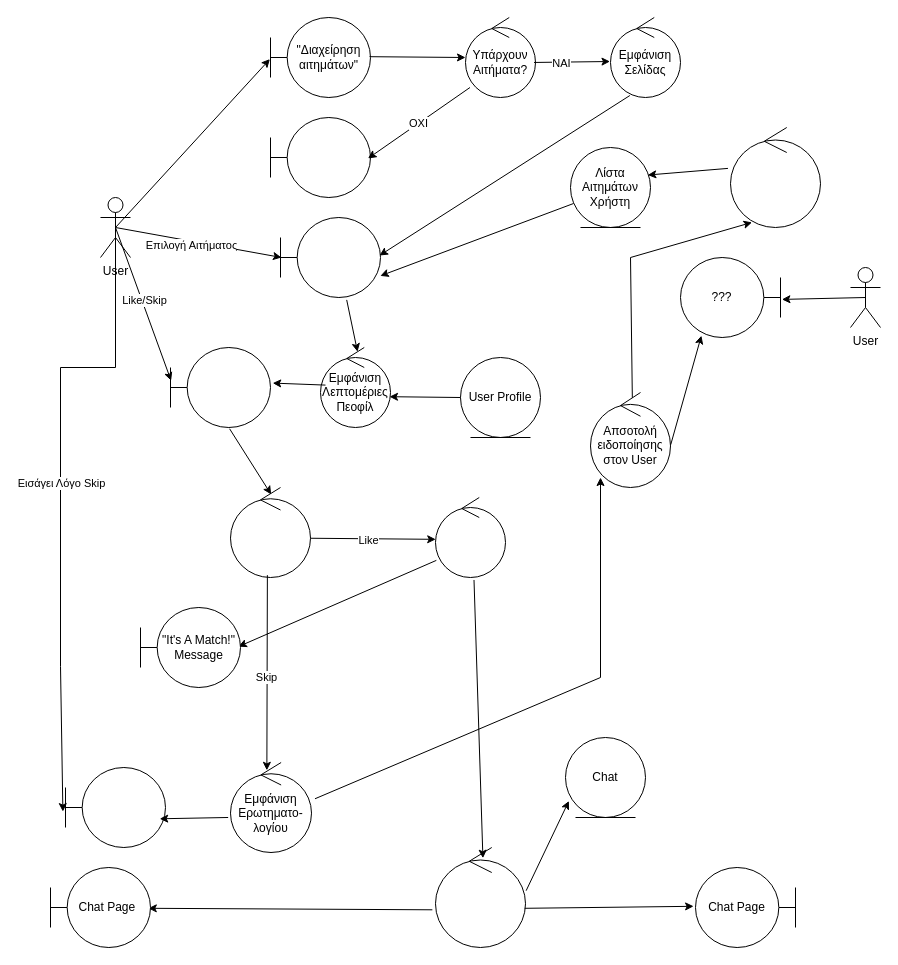
Image size: 898x965. Some labels were removed from this diagram. Each missing label, with the centre of its shape:
"Νο Αιτήματα" Message: point (320, 157)
Like Or Skip?: point (270, 532)
Δημιουργία Νέας Συνομιλίας: point (480, 897)
Εμφάνιση Μυνήματος: point (470, 537)
Ενημέρωση Λίστας Αιτημάτων Χρ.: point (775, 177)
Ερωτηματο-λόγιο: point (115, 807)
Προφίλ Χρήστη: point (220, 387)
Σελίδα Αιτημάτων Χρήστη: point (330, 257)
